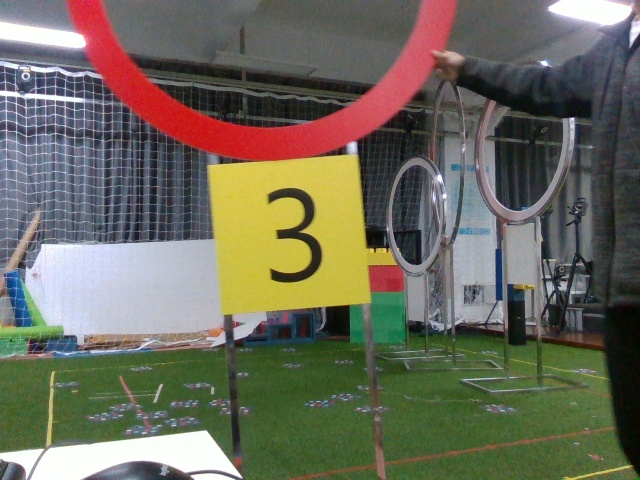target: (207, 161, 368, 306)
